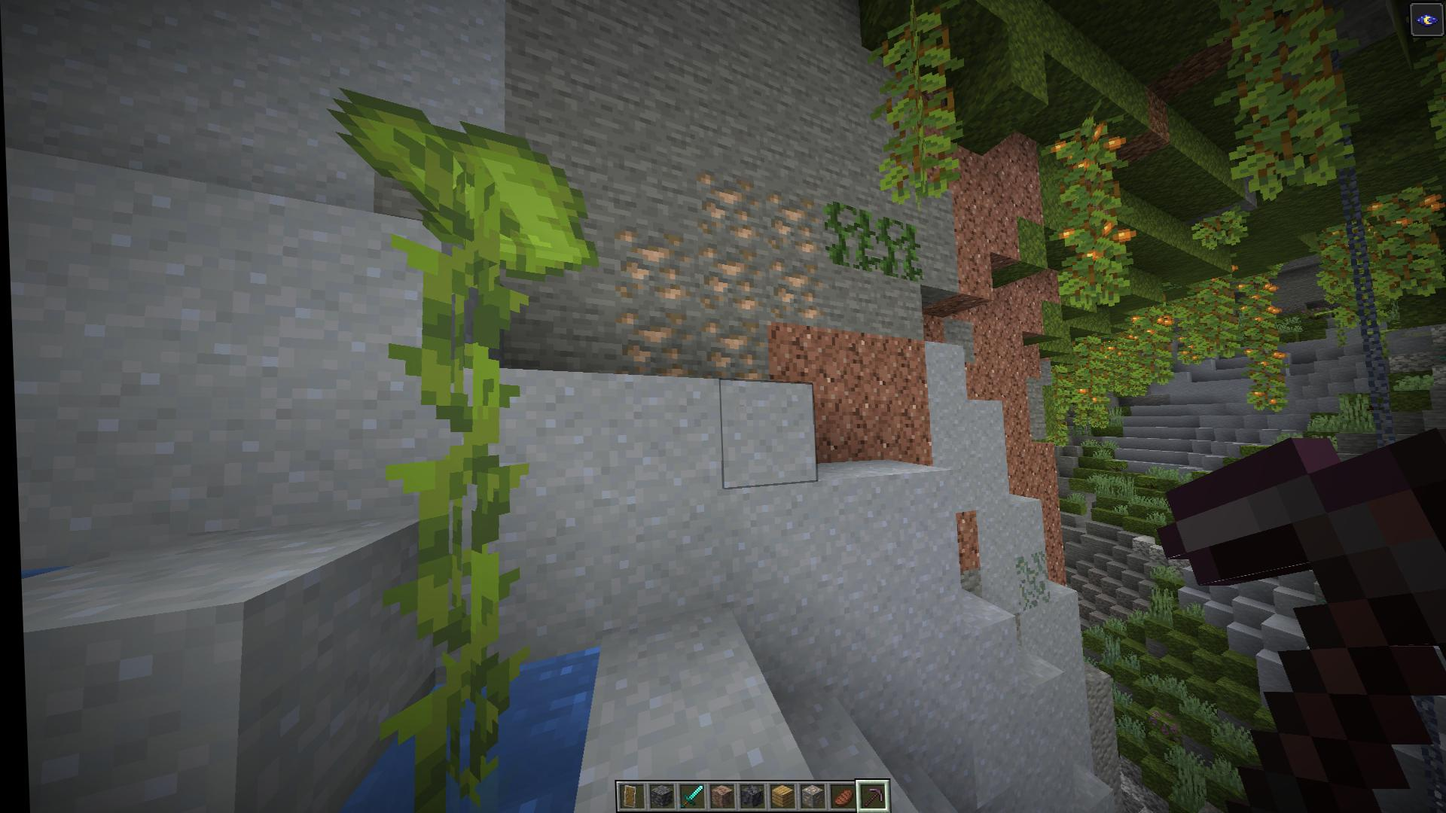iron ore: (612, 302, 690, 381), (614, 225, 688, 302), (690, 240, 761, 316), (691, 314, 767, 383), (757, 252, 825, 327), (690, 170, 756, 242), (753, 186, 821, 255)
